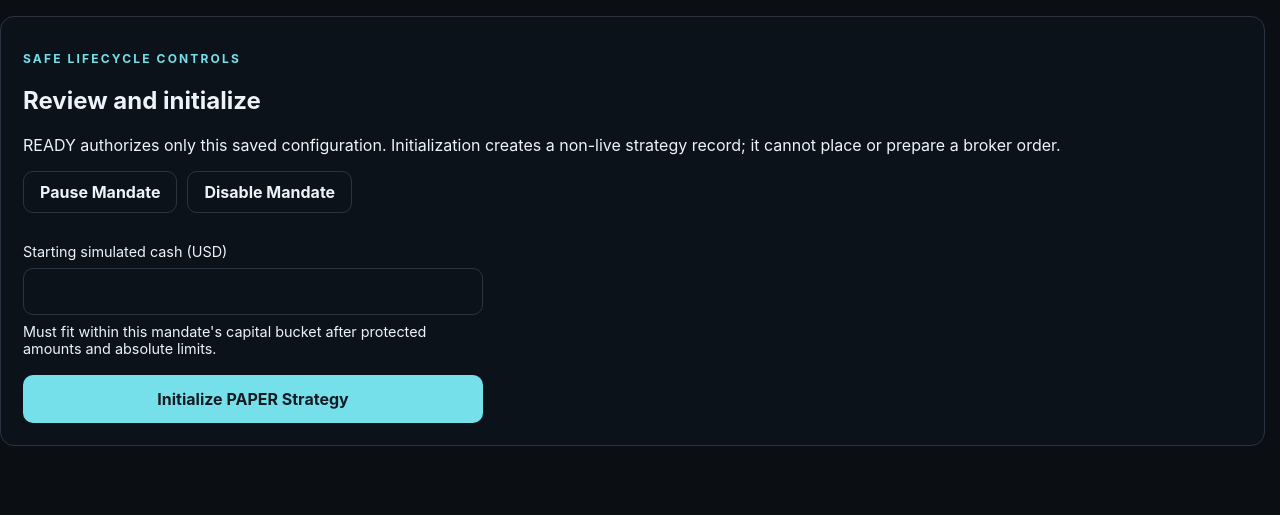
Test: MandateControls › explains a protected capital bucket rejection
Type "2501" into the number field labelled "Starting simulated cash".
click(253, 291); type("2501")  # box [23,268,483,315]
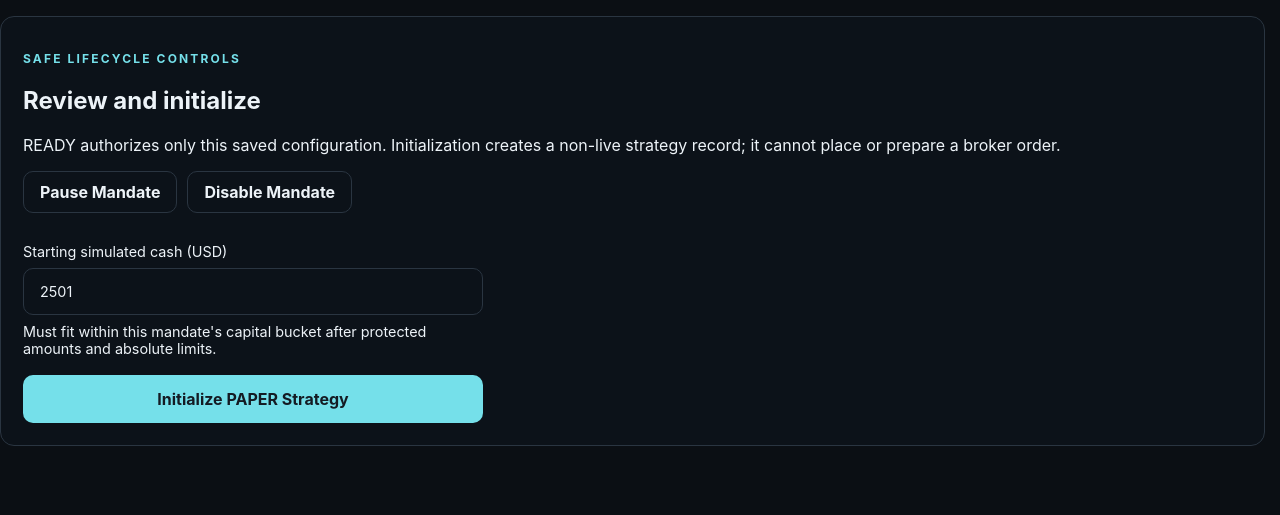
Click the button "Initialize PAPER Strategy".
click(253, 399)  # box [23,375,483,423]
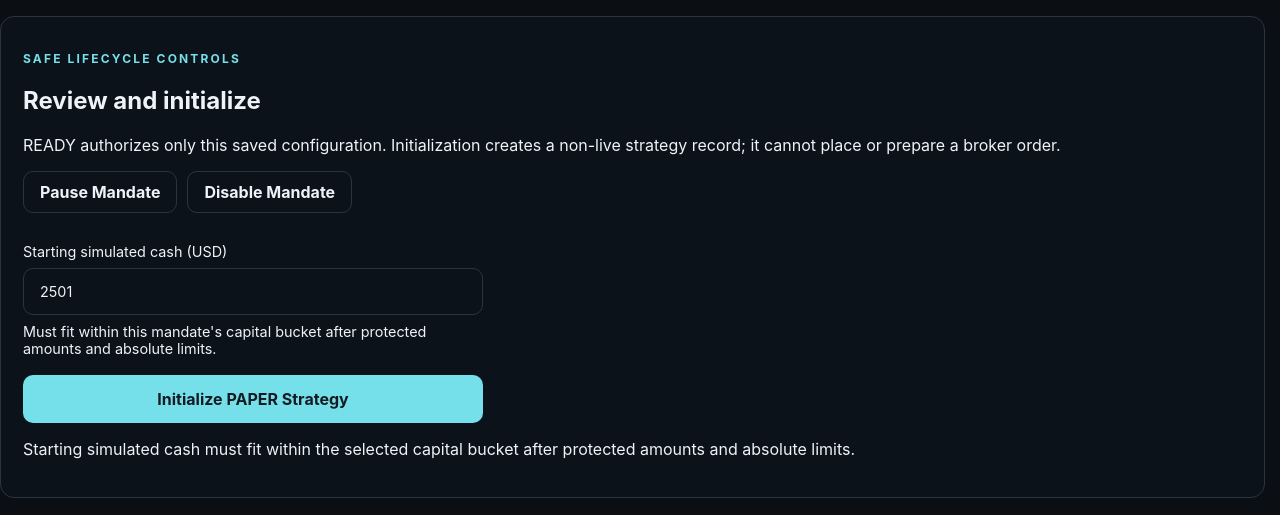
Expected: the text "must fit within the selected capital bucket" is shown, [23,439,855,459]
